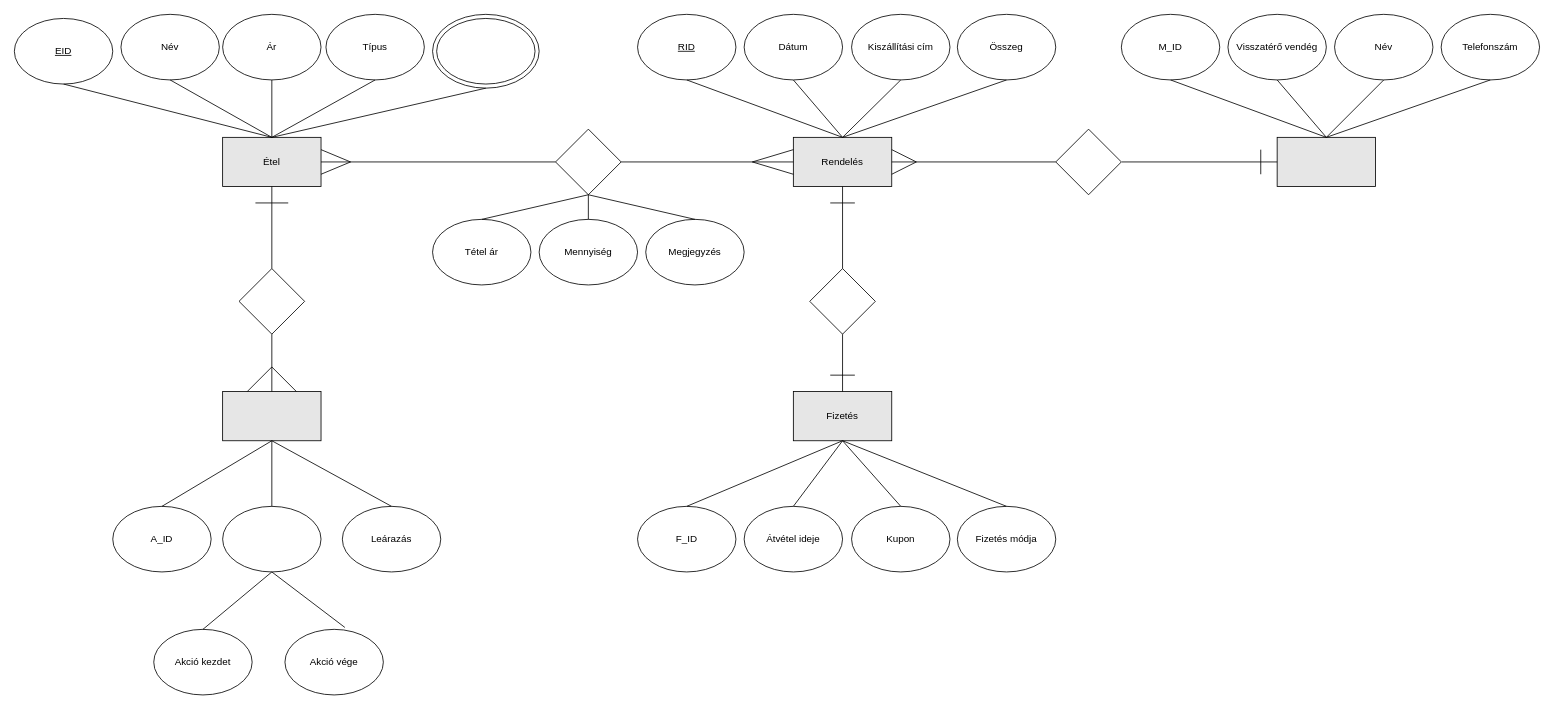
This 1554x709 diagram has some shape labels left out. The centre of each missing label's shape, as x and y in pixels:
"Akció" goes at (x=271, y=416).
"Allergén" goes at (x=485, y=51).
"E_A" goes at (x=271, y=301).
"Időtartam" goes at (x=271, y=539).
"Megrendelő" goes at (x=1326, y=162).
"R-F" goes at (x=842, y=301).
"R-M" goes at (x=1088, y=161).
"Rendelt" goes at (x=588, y=161).
